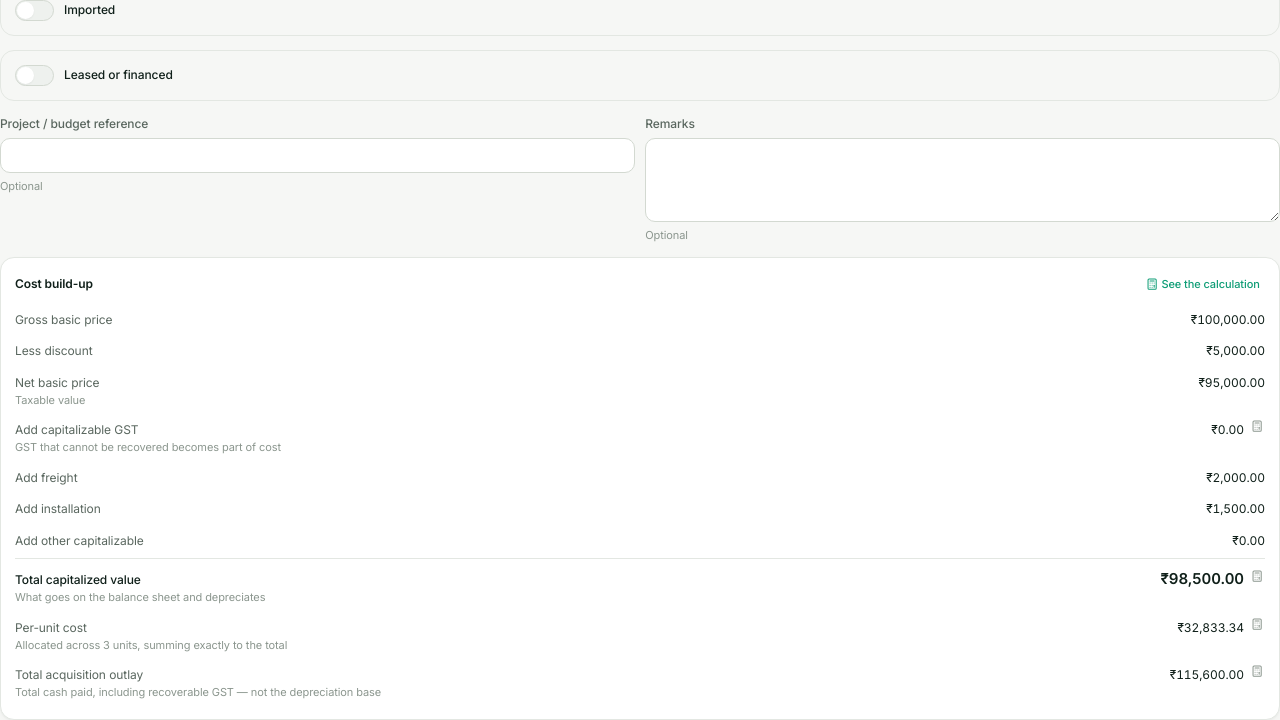
Test: cost build-up drawer › explains the landed cost from the acquisition tab
(page scrolled)
Click the button named "how was total capitalized value calculated" at [1257, 576], box [1249,568,1265,584]
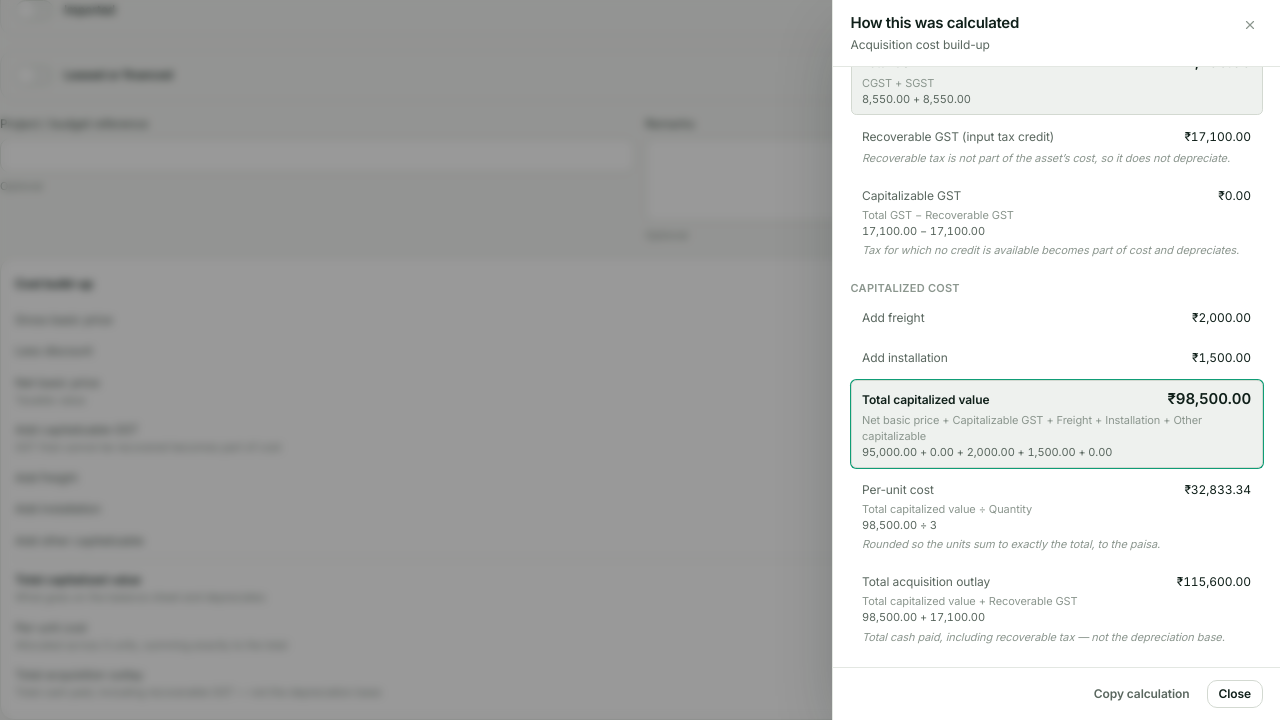
Expected: the text "Total capitalized value" is shown, [862,391,989,409]
